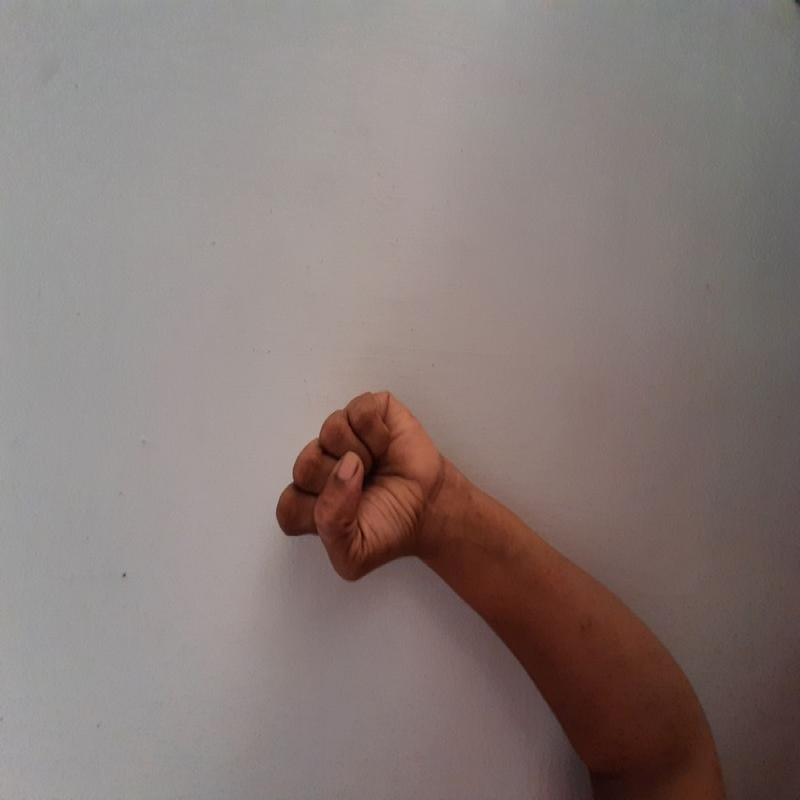Mushti: (240, 384, 462, 599)
